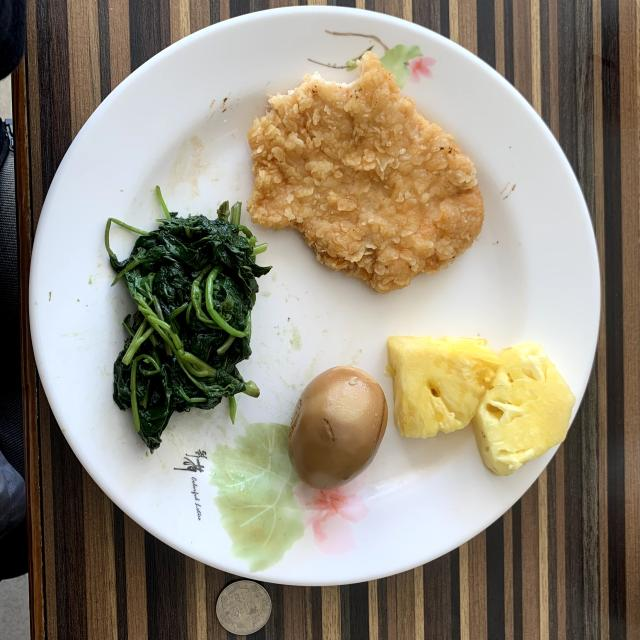coin: (216, 580, 271, 635)
fried chicken cutlet: (248, 51, 484, 292)
pineapple: (388, 336, 575, 475)
soy egg: (289, 366, 388, 489)
sweet potato leaves: (105, 195, 270, 451)
